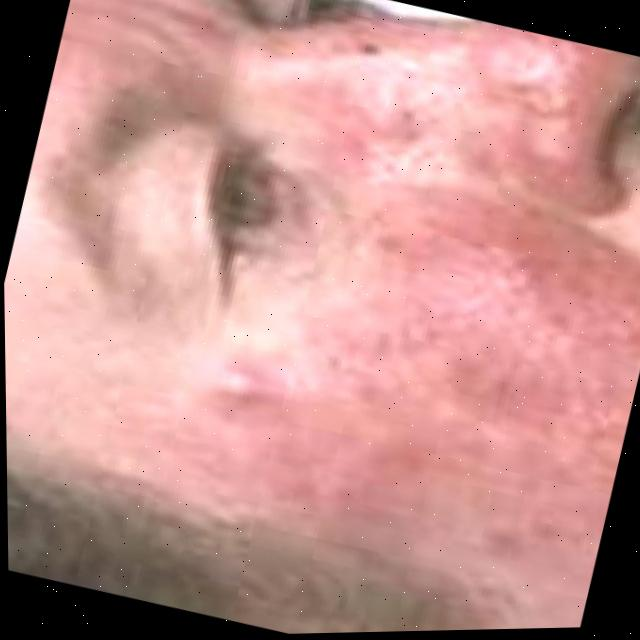Rosacea: (189, 177, 640, 550)
